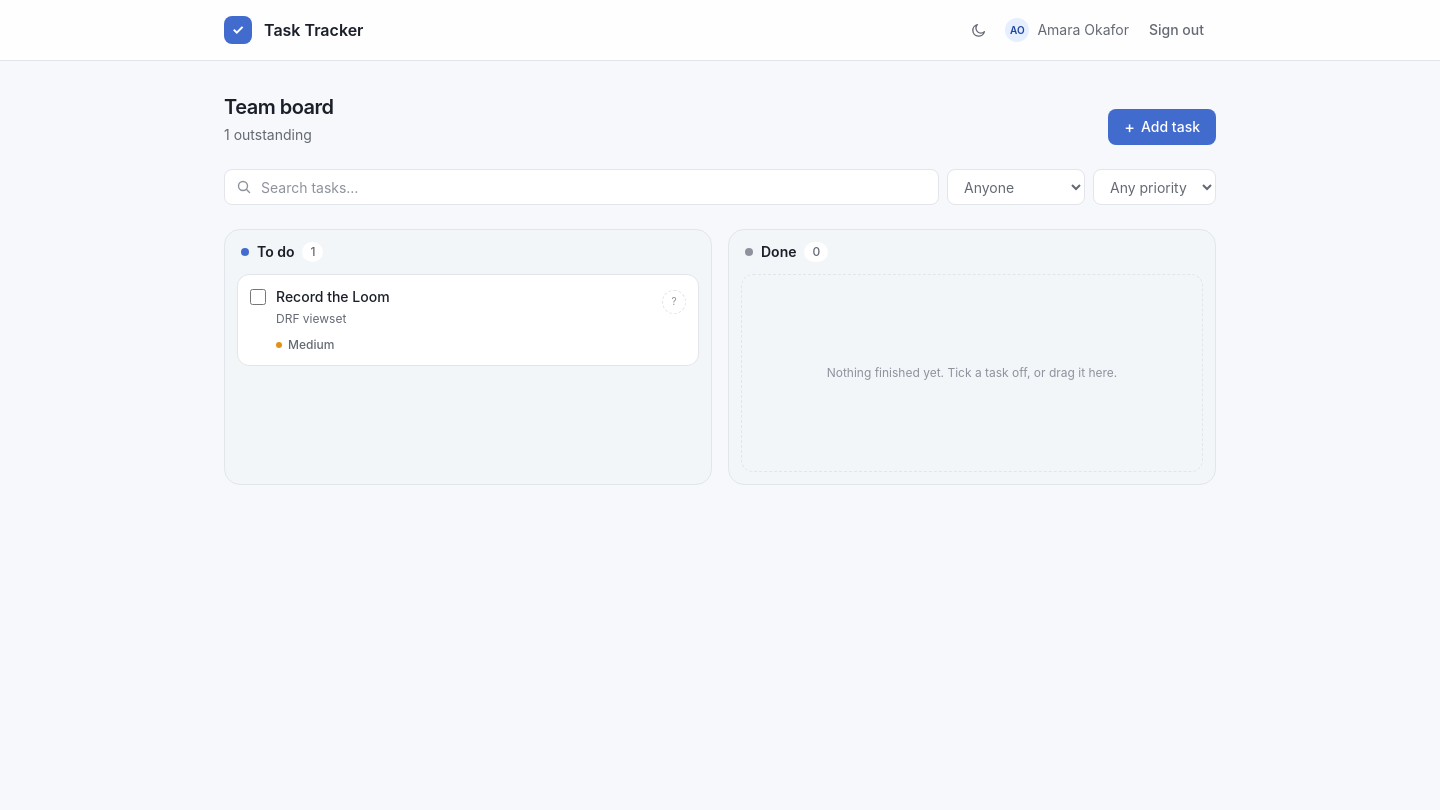
Test: TasksPage reassignment › puts the old assignee back when the server refuses
This screenshot has width=1440, height=810.
Click the button named "Assign someone".
click(674, 300)  # box [662,287,686,314]
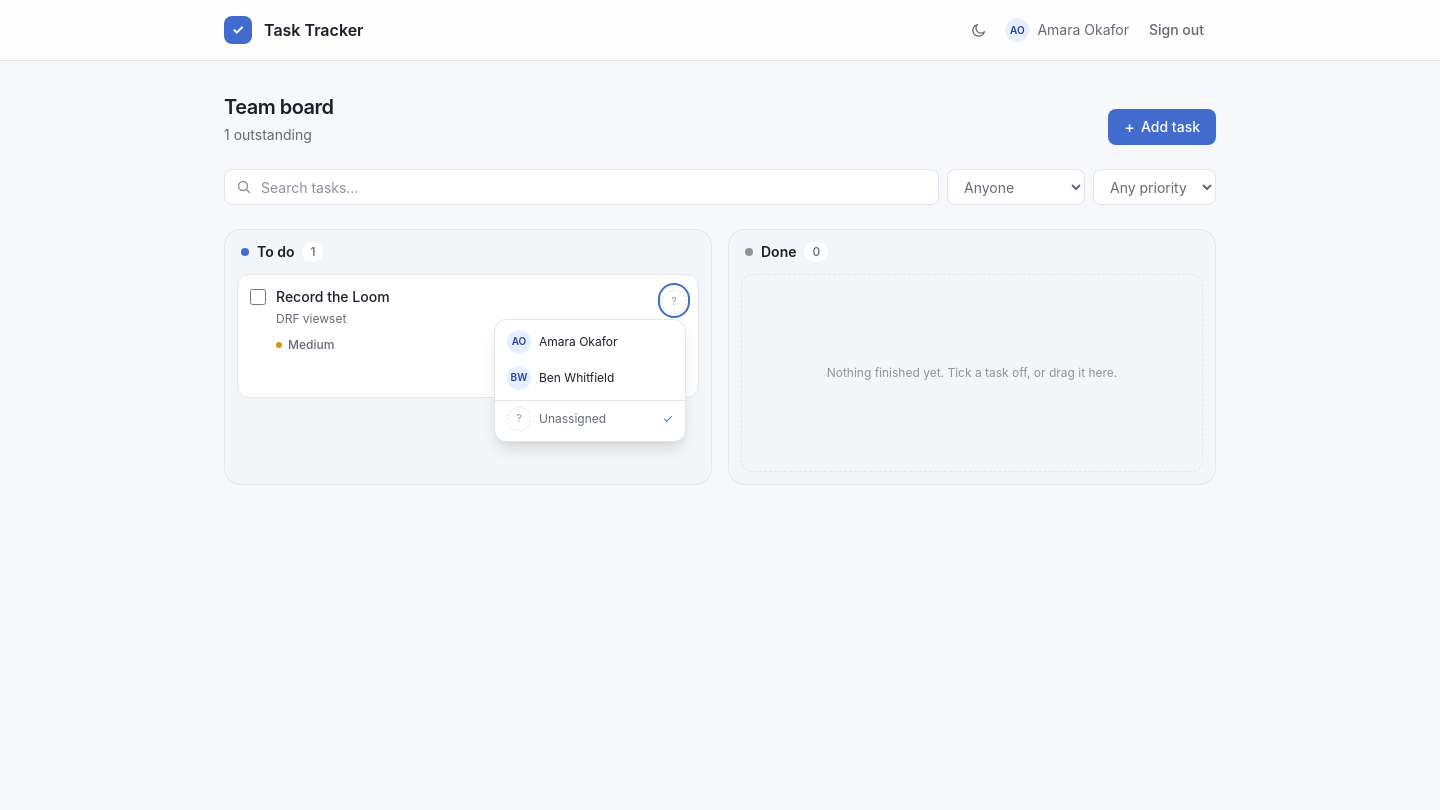
Click the menu item "Ben Whitfield".
click(590, 378)  # box [495,360,685,396]
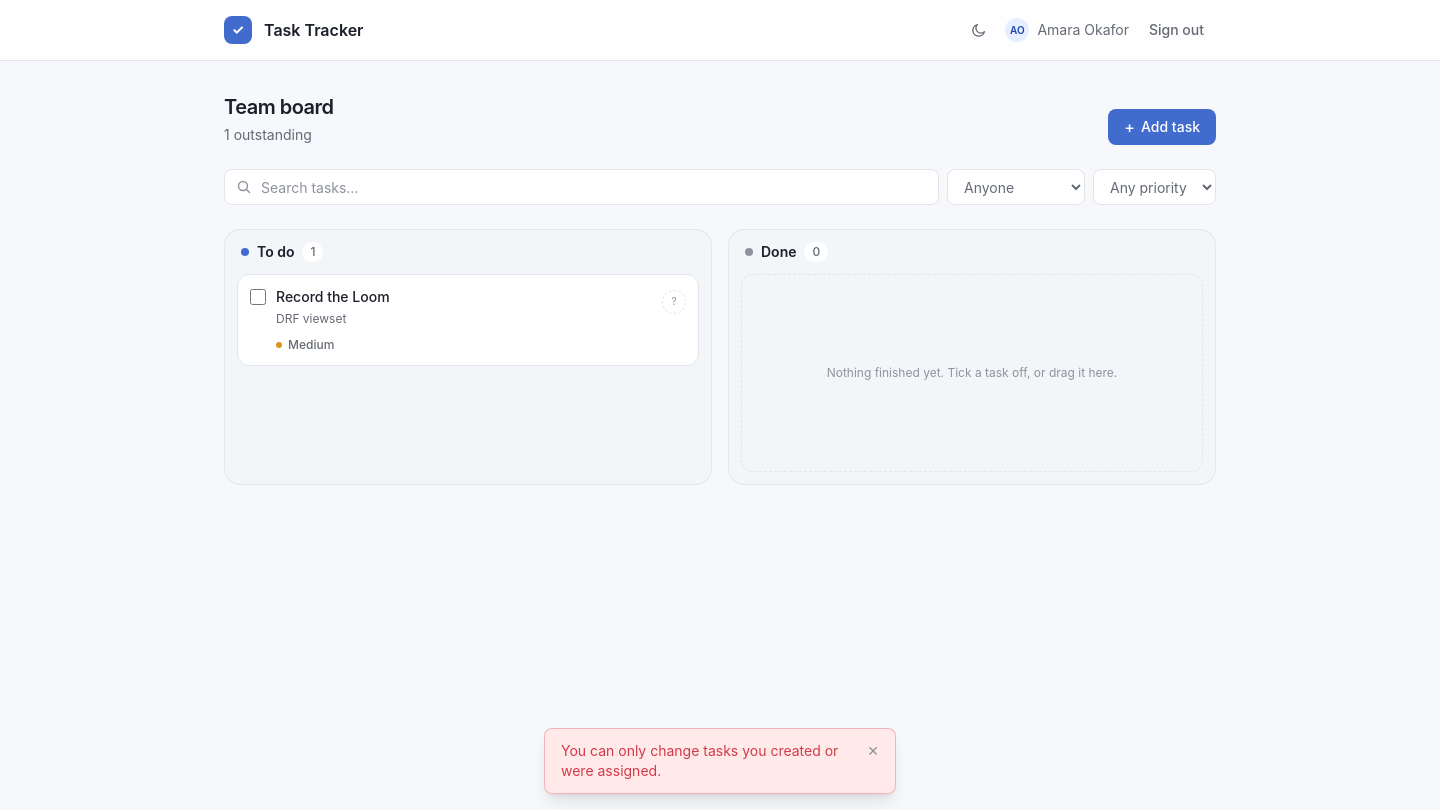
Check: the button named "Unassigned. Assign someone" is shown, box [662,287,686,314]
Check: the text "You can only change tasks you created or were assigned." is shown, box [561,741,855,781]
